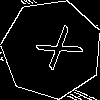X: (26, 24, 84, 78)
